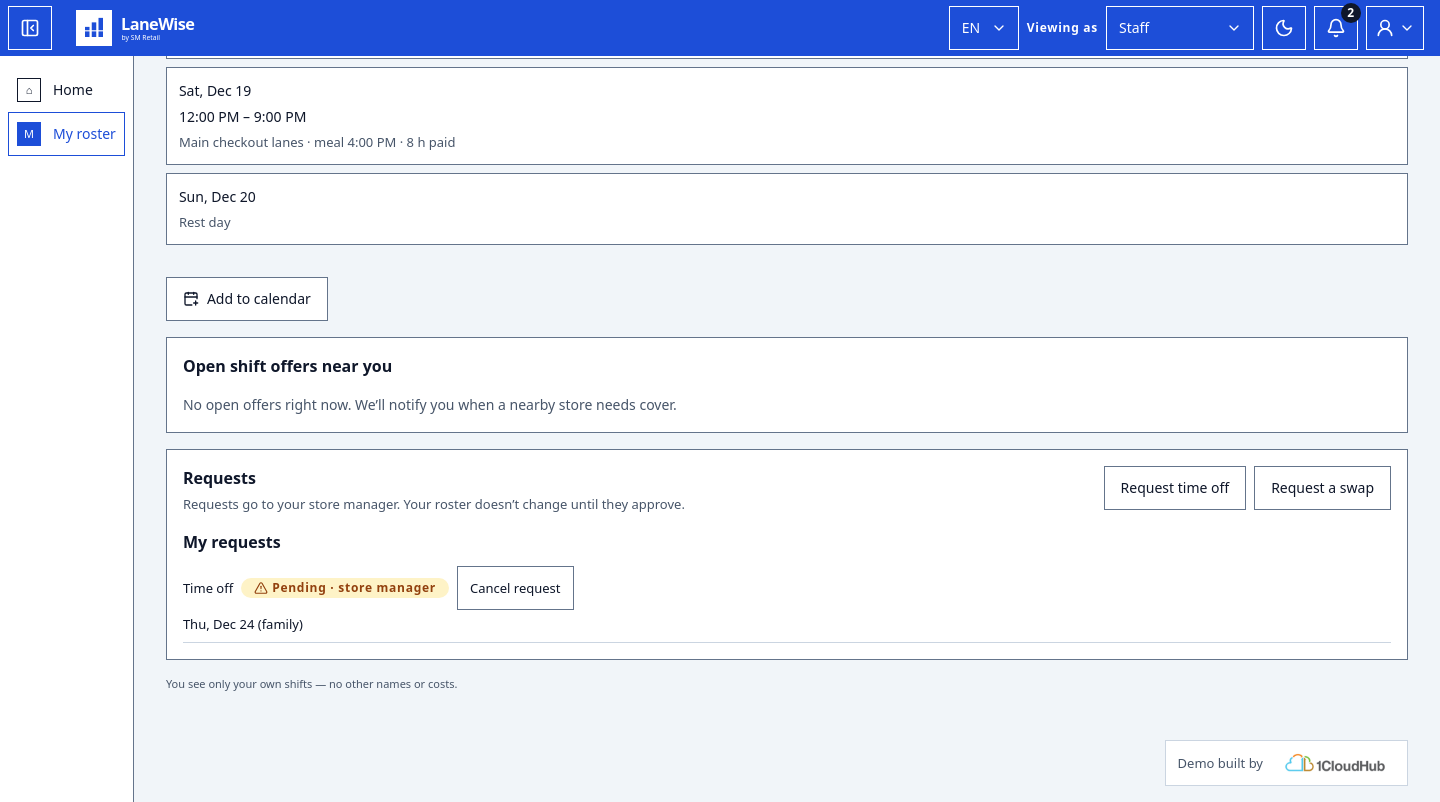
SCR-025 My roster (task 18.1) › the time-off dialog sends dates and an optional reason; Staff can cancel while pending
(page scrolled)
Click the button "Request time off".
click(1175, 488)  # box [1104,466,1246,510]
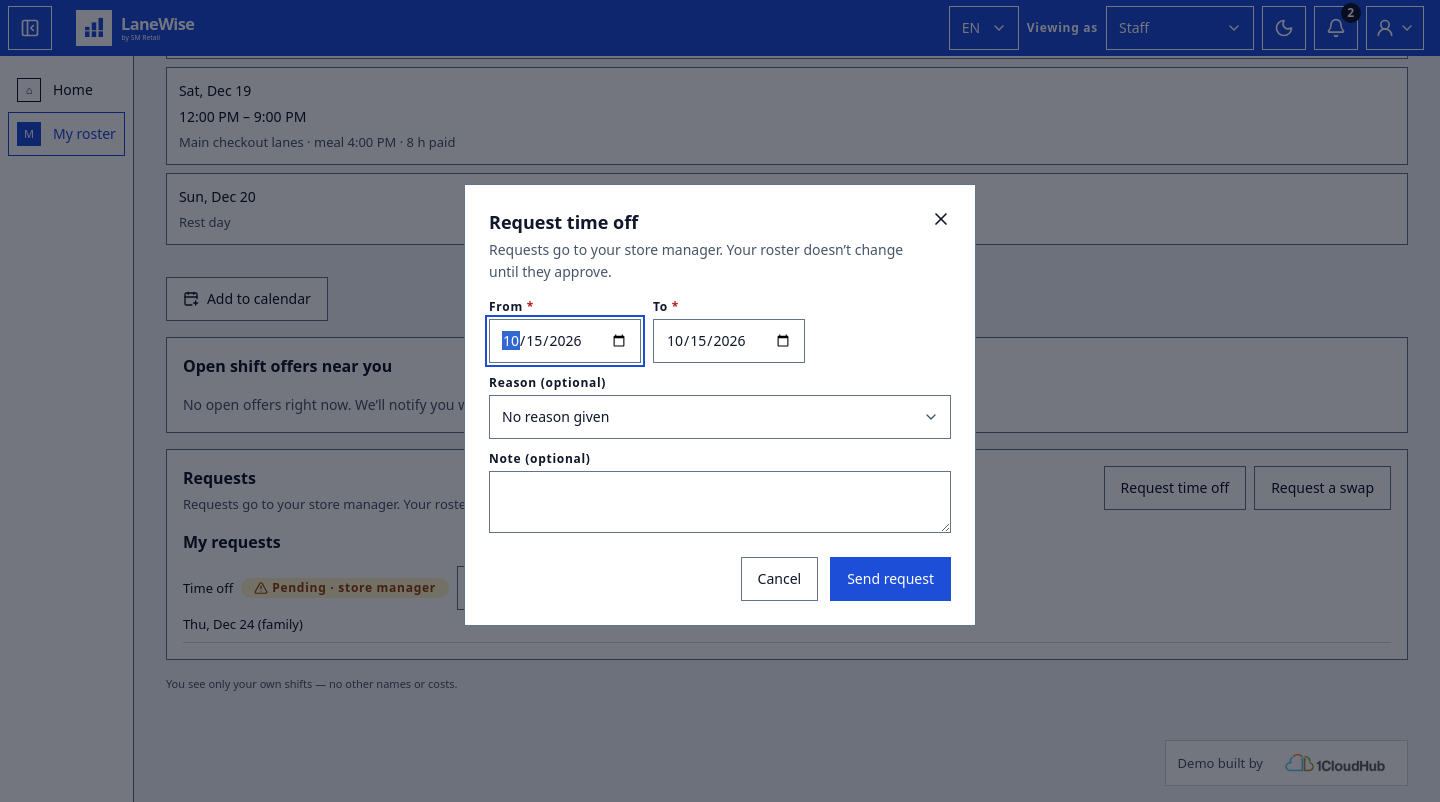
Type "2026-12-16" into the date field labelled "From *".
click(565, 341); type("2026-12-16")  # box [489,319,641,363]
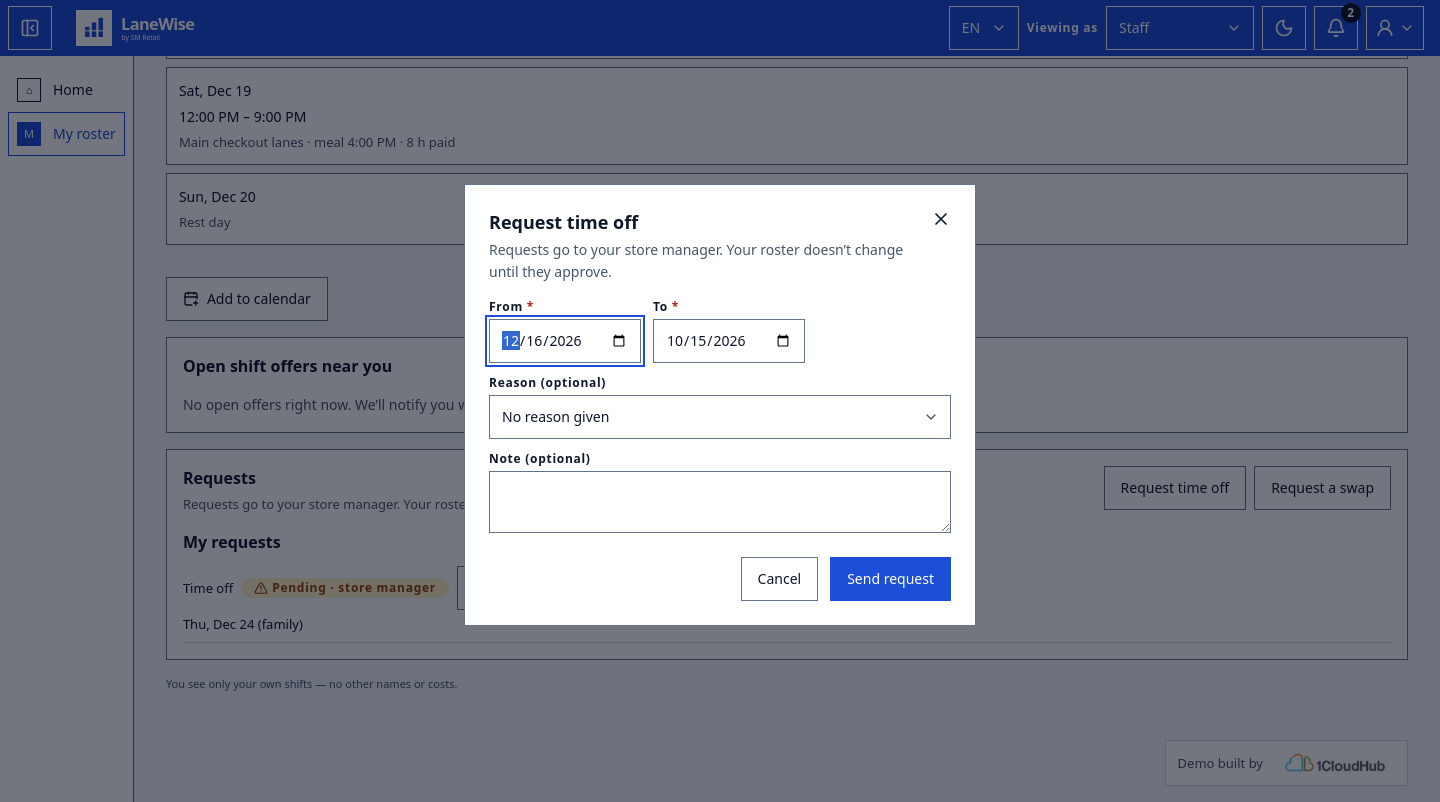
Type "2026-12-17" into the date field labelled "To *".
click(729, 341); type("2026-12-17")  # box [653,319,805,363]
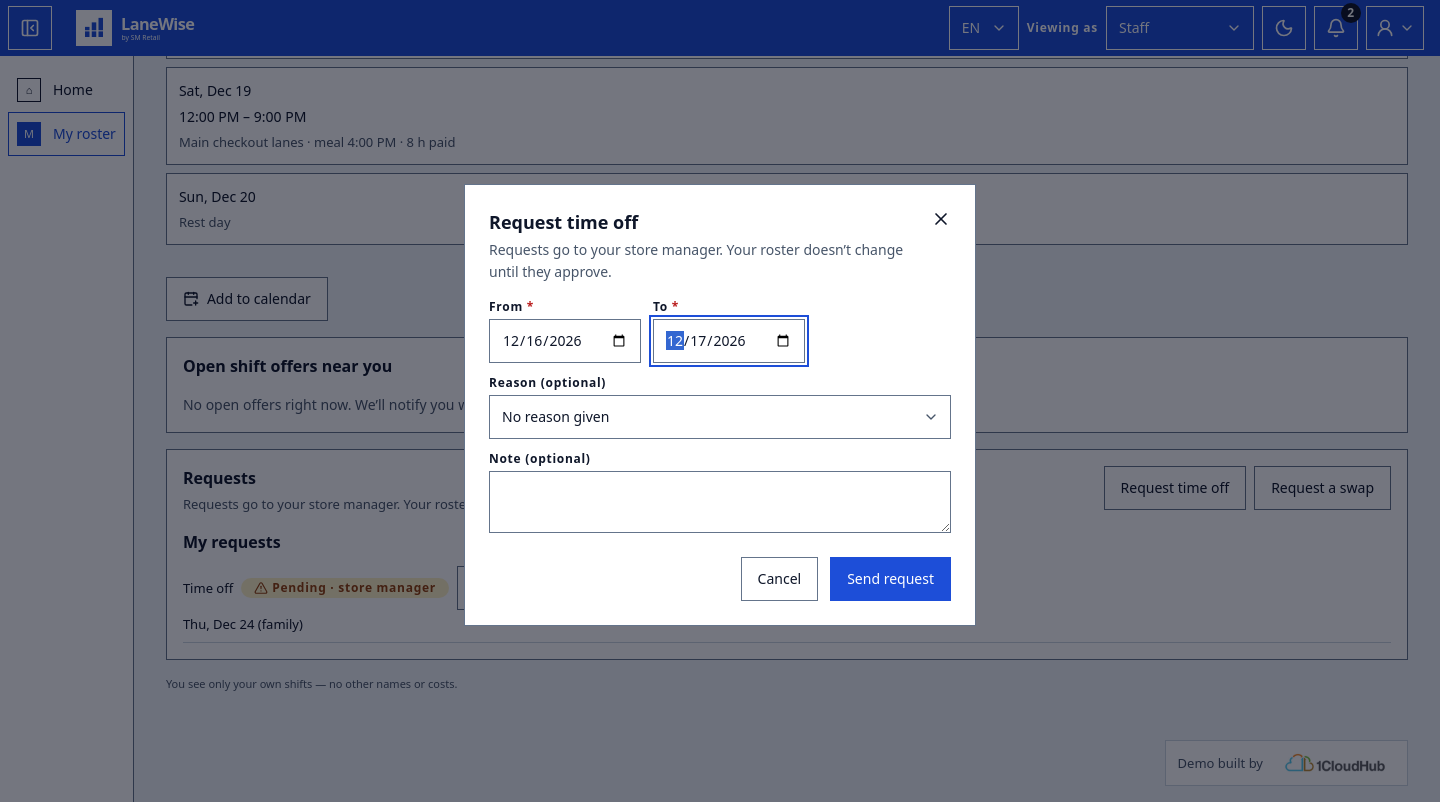
Select "medical" in the dropdown labelled "Reason (optional)" at (720, 417), box [489,395,951,439]
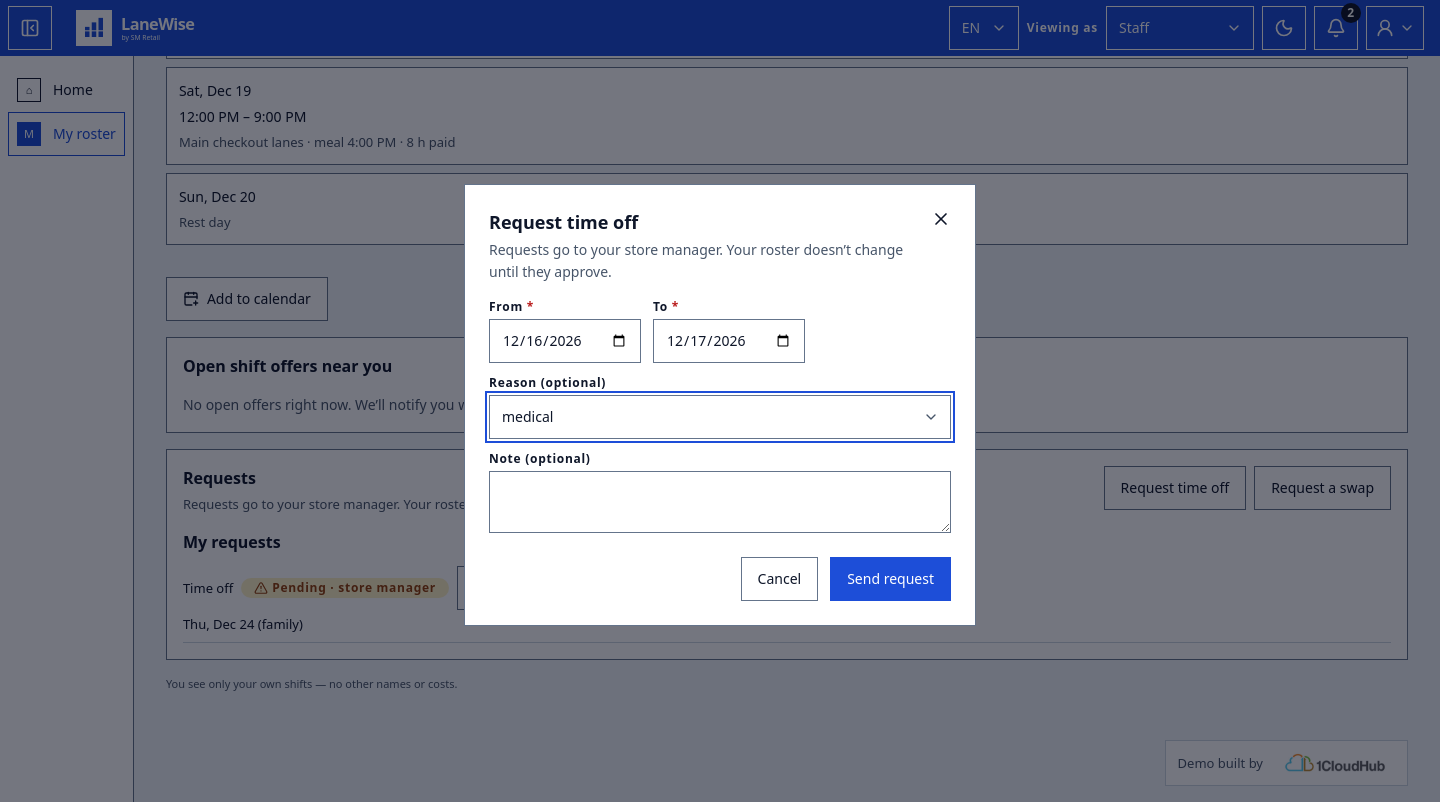
Click the button "Send request".
click(891, 579)  # box [830,557,951,601]
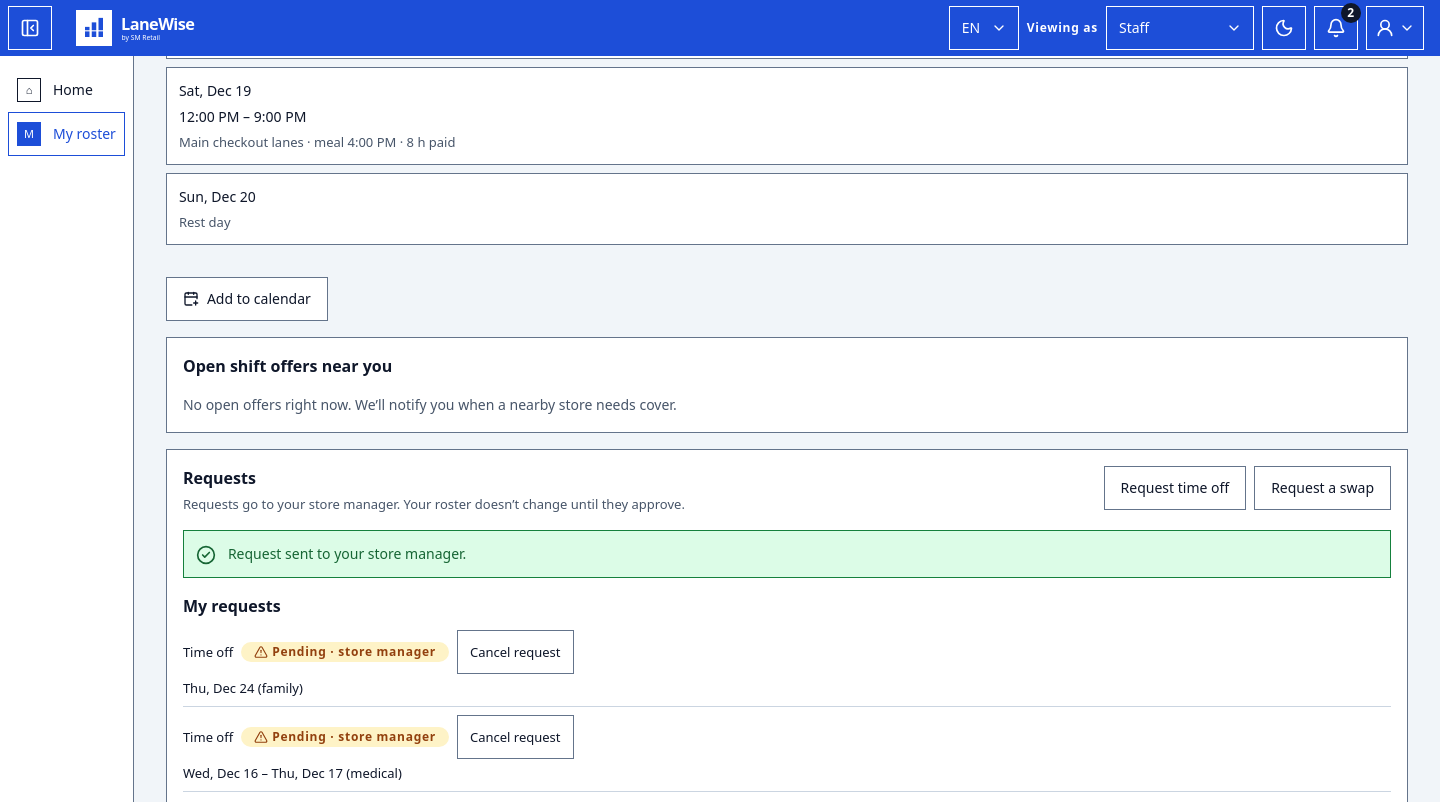
Expected: the dialog is gone
Click the button with aria-label "Cancel request: Wed, Dec 16 – Thu, Dec 17 (medical)".
click(515, 737)  # box [457,715,574,759]
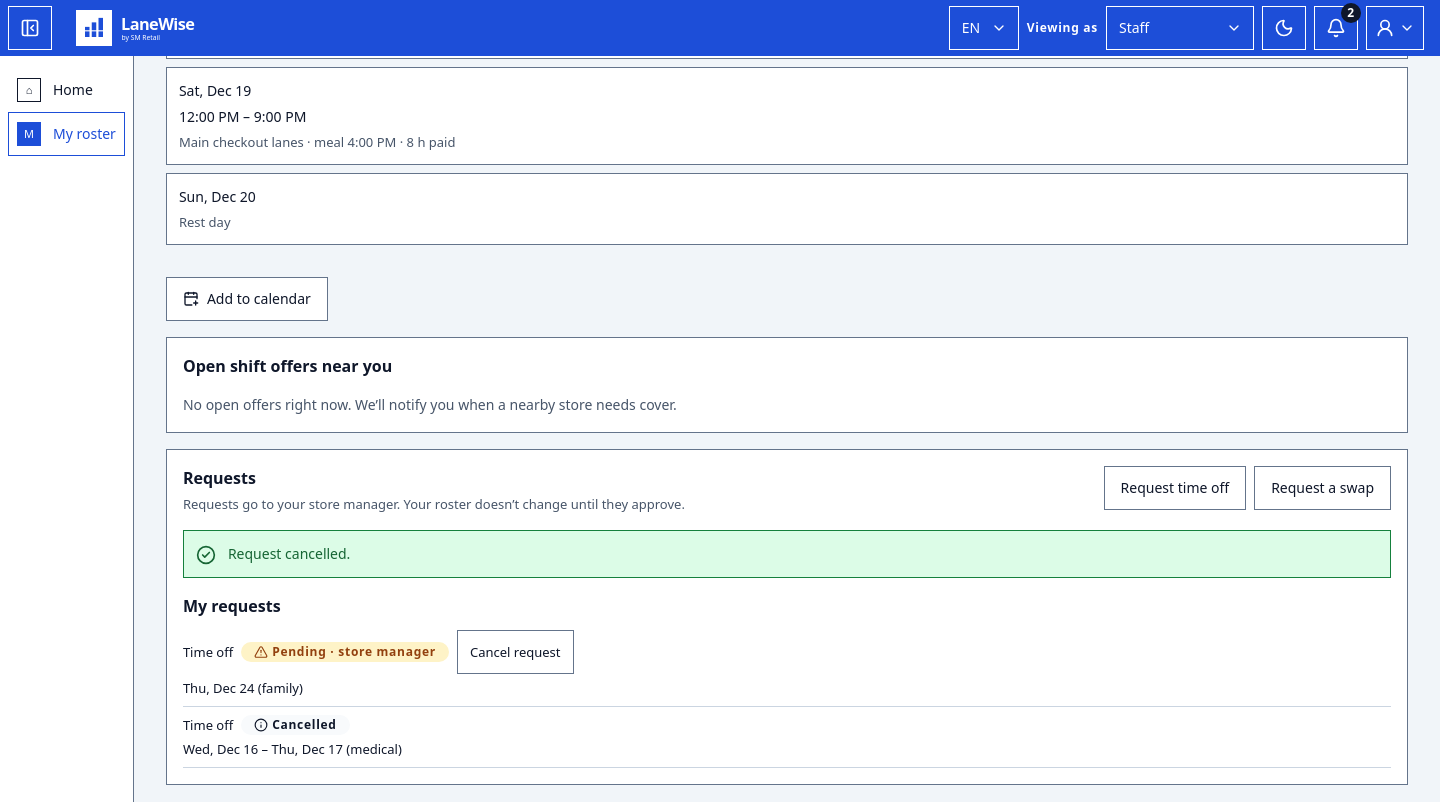
Expected: the text "Request cancelled." is shown, [228,544,350,563]
